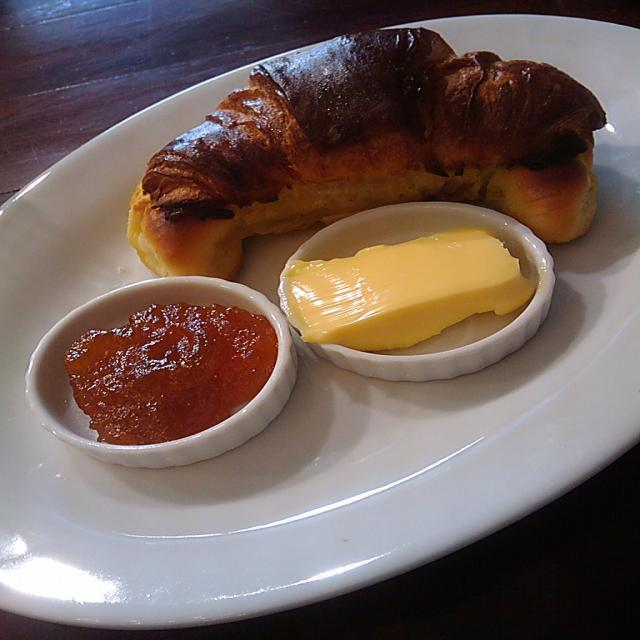Croissant: (128, 31, 622, 265)
